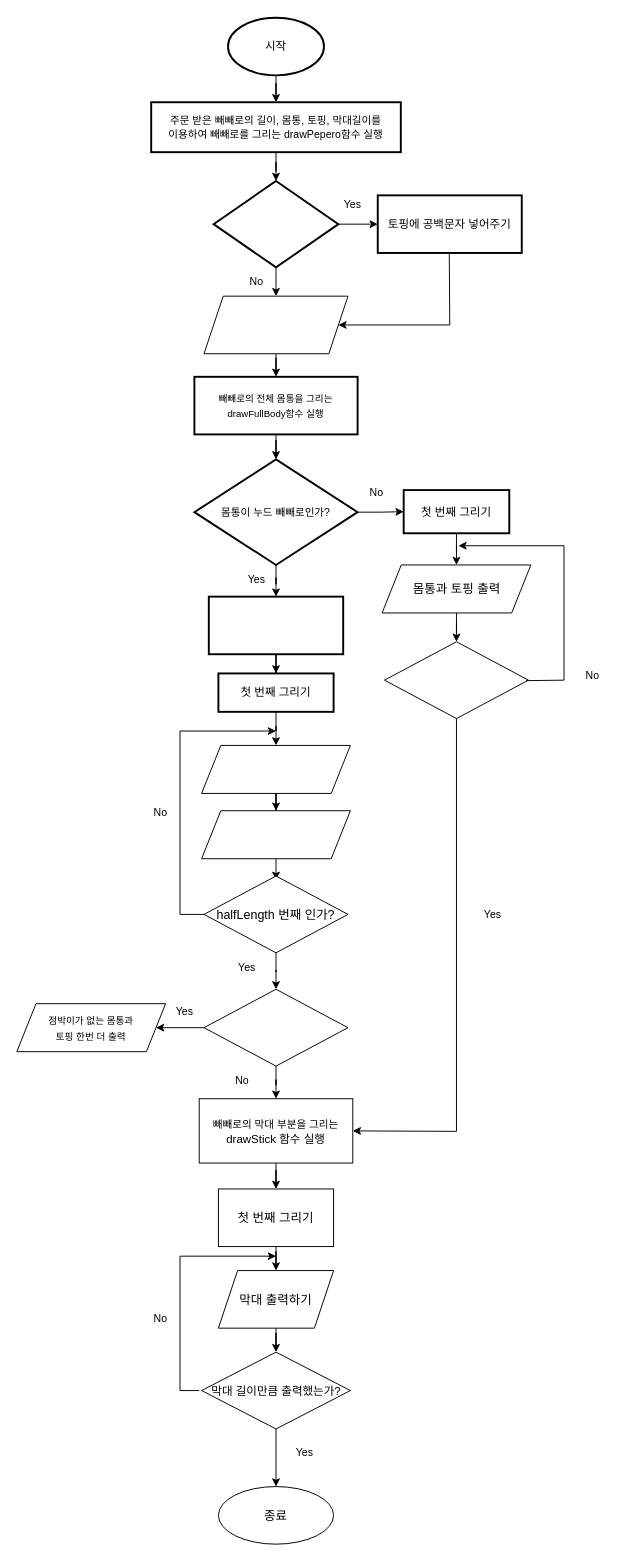
Image size: 638x1561. Some labels were removed from this diagram. The centre of each missing label's shape, as x and y in pixels:
몸통 길이가 홀수인가?: point 275,1027
몸통 길이를 2로 나눈 값을 halfLength라고 지정한다.: point 275,625
몸통 길이만큼 출력했는가?: point 456,680
점박이가 없는 몸통과 토핑 출력: point 275,768
점박이가 있는 몸통과 토핑 출력: point 275,834
주문 정보 출력하기: point 275,324
토핑을 주문 받지 않았는가?: point 275,224
